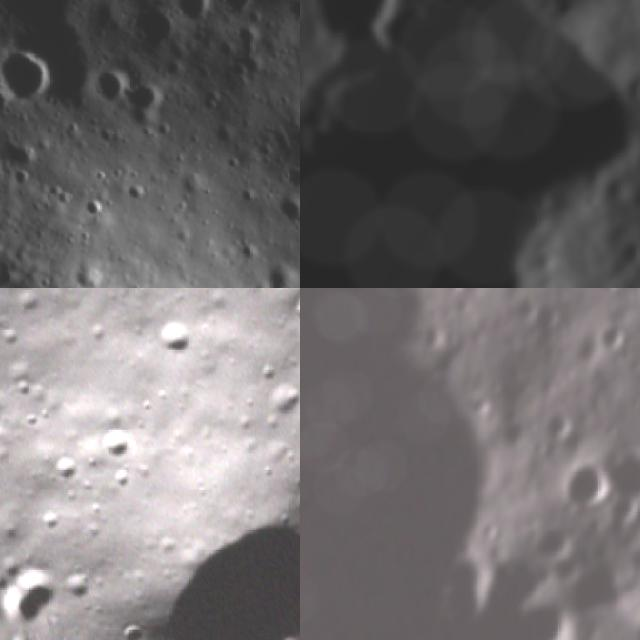crater: (300, 0, 640, 288), (119, 465, 300, 640), (319, 12, 408, 104), (300, 0, 421, 62), (544, 444, 624, 524), (0, 30, 68, 124), (70, 45, 147, 120), (585, 430, 640, 529), (507, 505, 580, 578), (495, 586, 591, 640), (133, 304, 199, 369), (528, 397, 587, 455), (584, 309, 638, 363), (34, 441, 88, 493), (253, 370, 300, 427), (243, 243, 300, 288), (90, 419, 138, 468), (160, 0, 229, 32), (49, 560, 94, 606), (570, 183, 614, 227), (264, 176, 300, 225), (364, 0, 457, 18), (100, 458, 140, 498), (609, 235, 640, 284), (278, 288, 300, 346), (109, 613, 149, 640), (578, 288, 630, 299), (263, 631, 300, 640)
